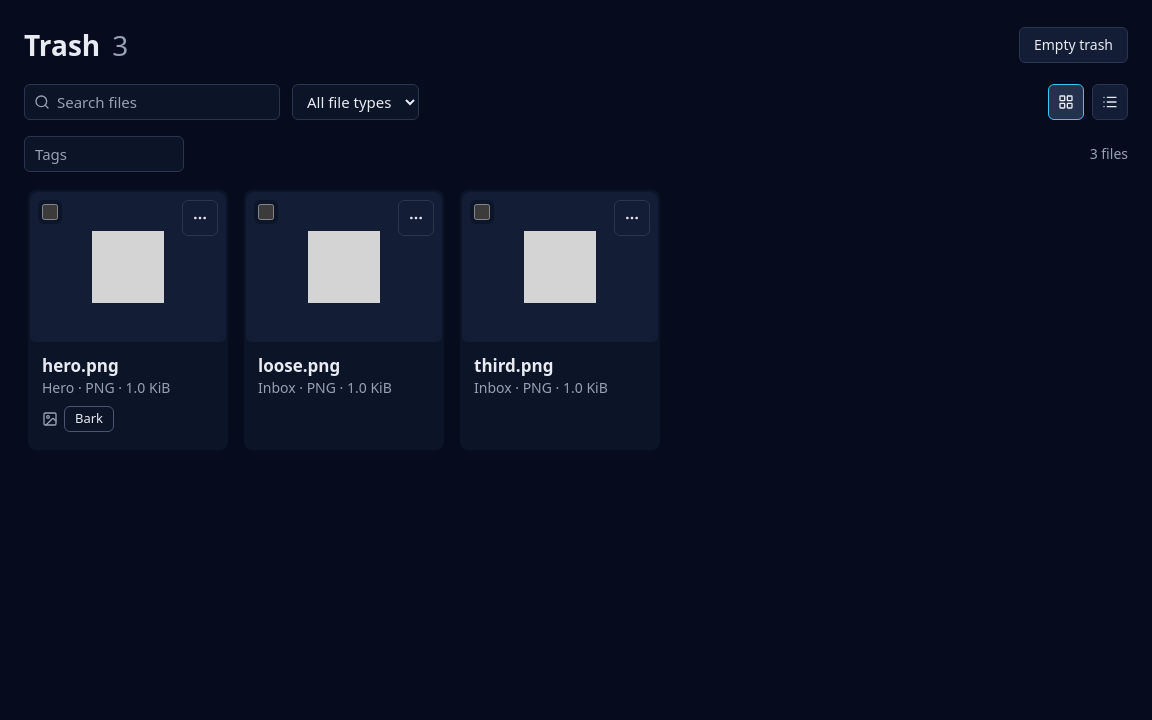
Test: Restore for a selection
Expected: the text "hero.png" is shown, [42,354,119,377]
Click the option "hero.png Hero · PNG · 1.0 KiB Bark": x=128, y=320 [28,190,228,450]
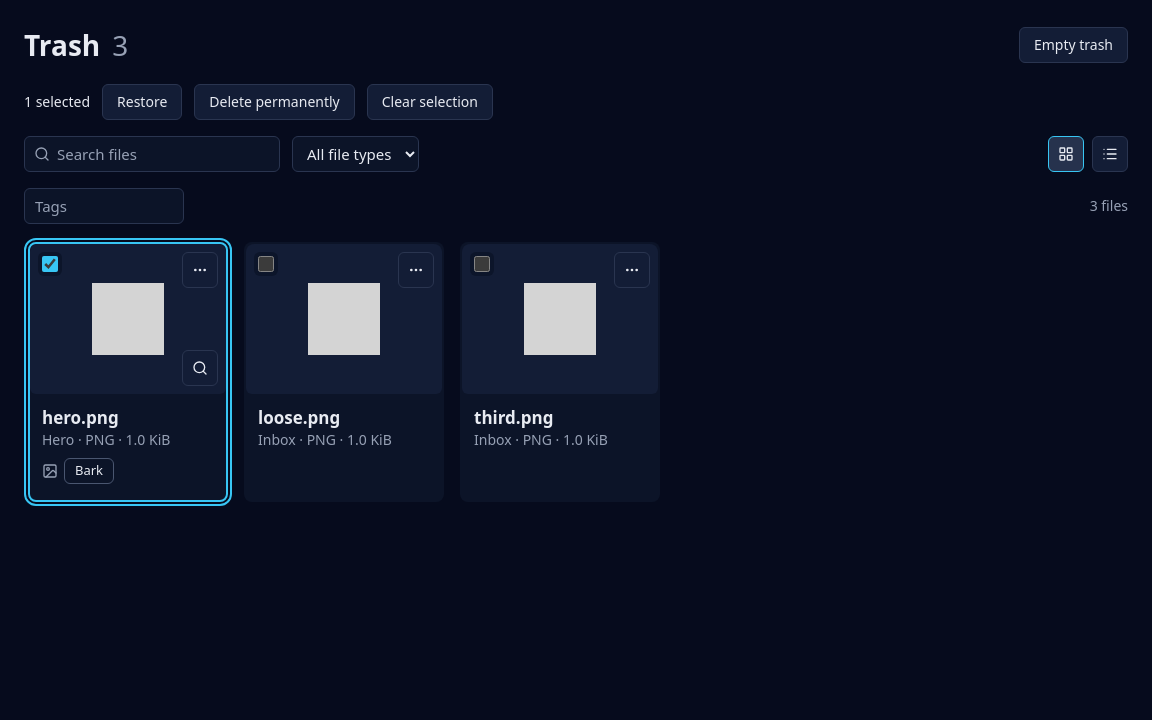
Click the option "loose.png Inbox · PNG · 1.0 KiB": x=344, y=372 [244,242,444,502]
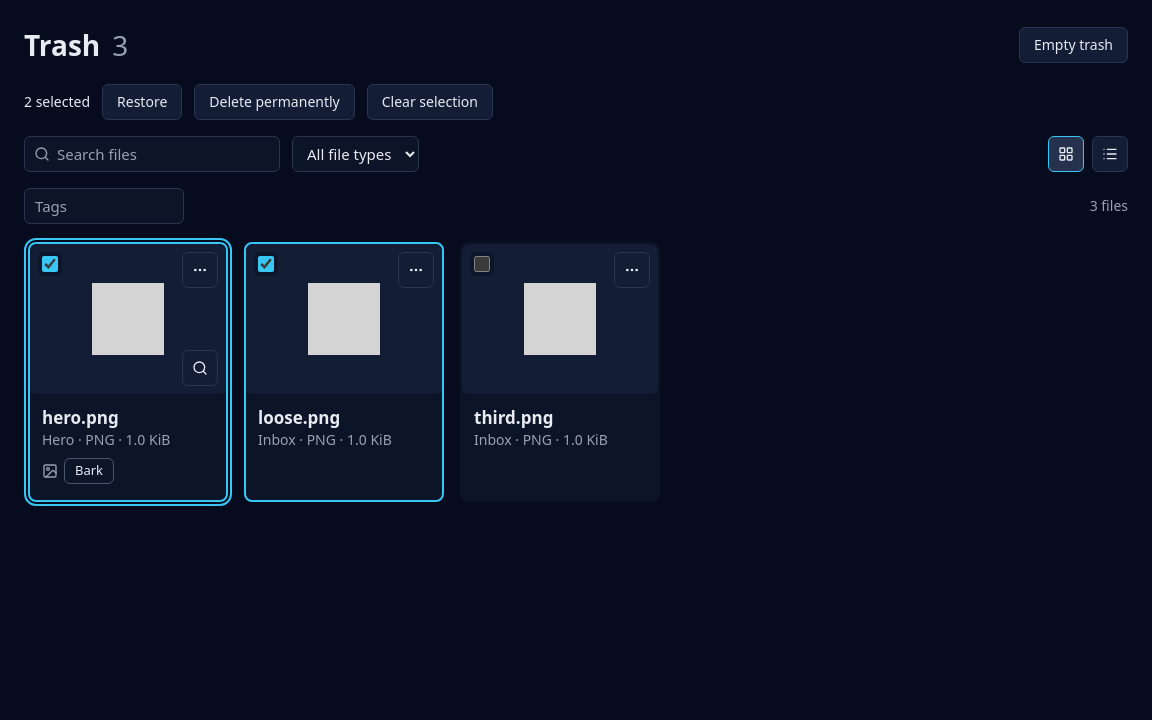
Now the text "2 selected" is shown, box [24,92,90,112]
Click the button "Restore": x=142, y=102 [102,84,182,120]
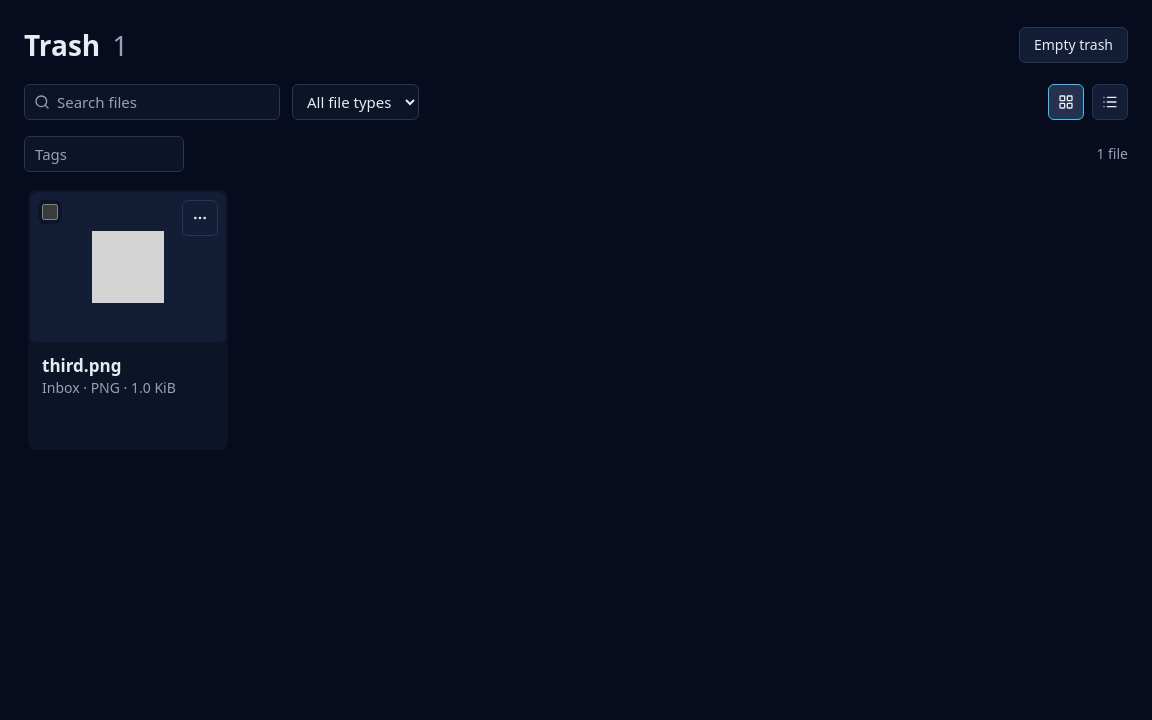
Now the text "2 selected" is gone
Now the option "hero.png" is gone
Now the option "loose.png" is gone
